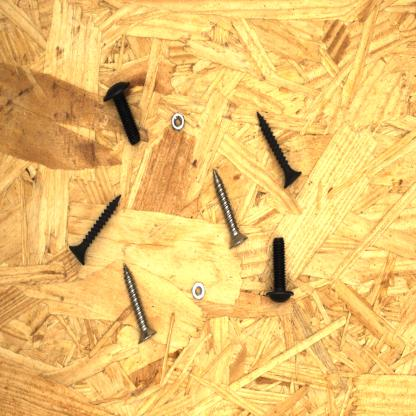screw: (66, 192, 124, 268), (254, 108, 304, 191), (210, 166, 250, 252), (121, 260, 160, 346), (101, 78, 144, 148), (264, 236, 296, 304)
